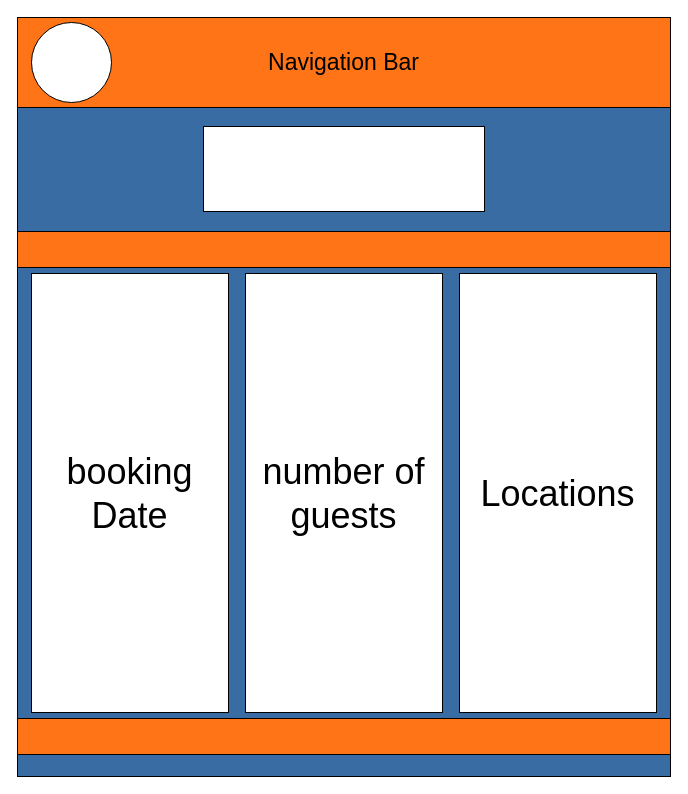
Image size: 688x794. Some labels were removed from this diagram. Each missing label, with the centre of its shape:
Booking: [343,169]
Logo: [71,62]
